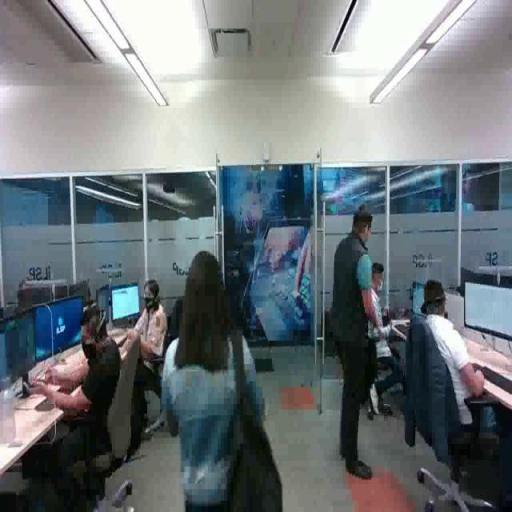person: (157, 248, 267, 512), (24, 306, 130, 497), (415, 278, 512, 433), (329, 207, 376, 481), (120, 278, 168, 423), (365, 261, 407, 414)
